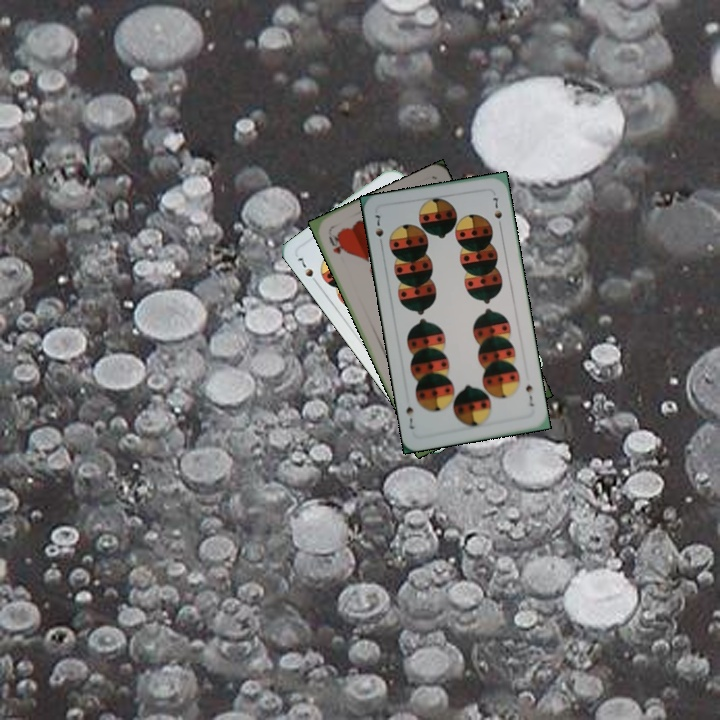HO: (324, 232, 347, 257)
S7: (293, 253, 321, 288), (371, 210, 386, 249), (522, 379, 537, 409)
